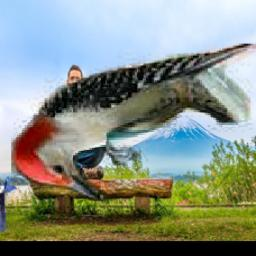Swallow: (0, 175, 18, 232)
Woodpecker: (11, 45, 256, 202)
